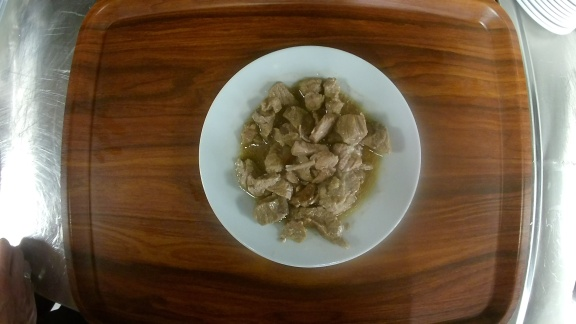etsote: (196, 45, 423, 269)
